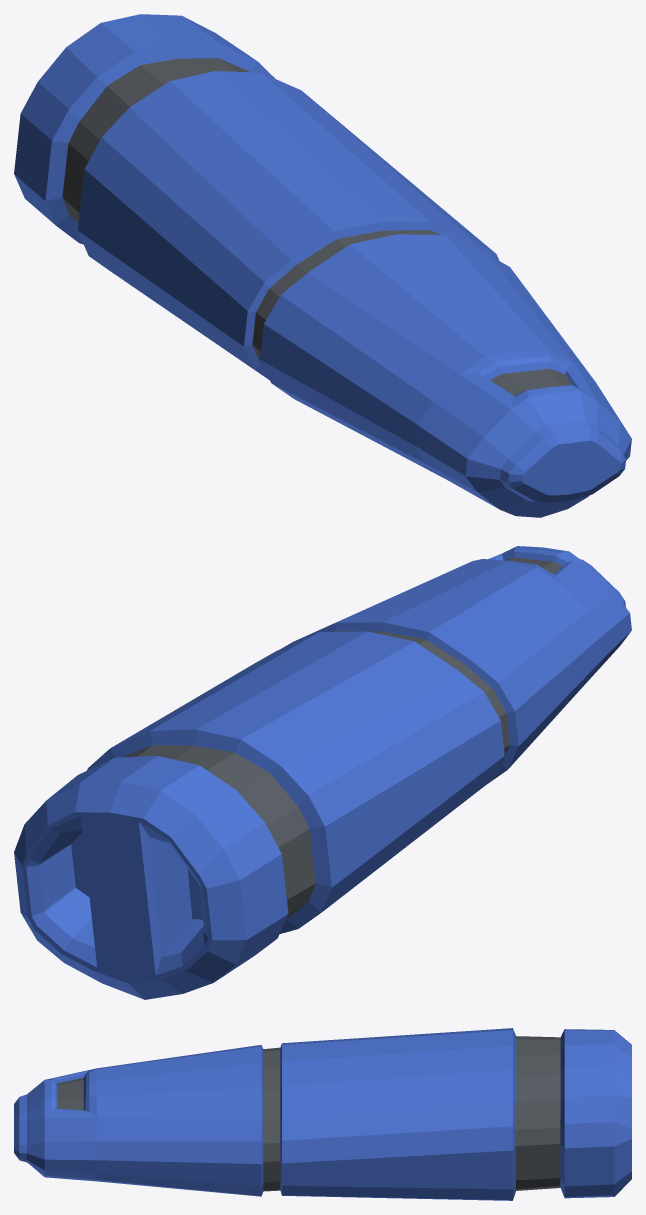
The model's file is Fighter_02_Thruster_Blue.fbx.
3 renders of one model, top to bottom at view 1: azimuth 30°, elevation 25°; view 2: azimuth 150°, elevation 25°; view 3: azimuth 270°, elevation 25°, orthographic. The views are drawn at different scales.
Parts seen in each view (by area): view 1: Fighter_02_Thruster_Blue; view 2: Fighter_02_Thruster_Blue; view 3: Fighter_02_Thruster_Blue.
Part boxes in pixels (left/top/right/bottom): Fighter_02_Thruster_Blue: left=14, top=14, right=631, bottom=517; Fighter_02_Thruster_Blue: left=14, top=546, right=631, bottom=999; Fighter_02_Thruster_Blue: left=14, top=1028, right=631, bottom=1200.
Bounding box in the file's own units: 156 × 122 × 467.
2 materials, 2 textured.
